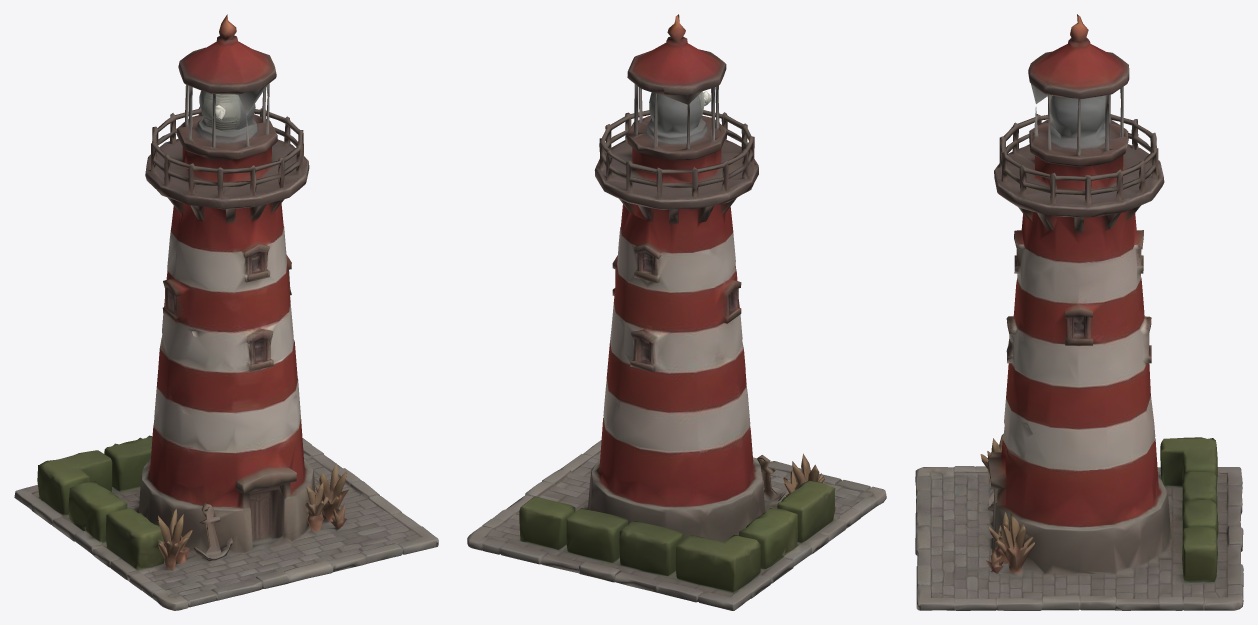
Rendered from lagos_lighthouse.glb.
The picture shows the model from 3 angles, left to right: view 1: azimuth 30°, elevation 25°; view 2: azimuth 150°, elevation 25°; view 3: azimuth 270°, elevation 25°; orthographic projection. The views are drawn at different scales.
Parts seen in each view (by area): view 1: tripo_node_07e7f90f-a82c-4a2d-b264-7c3a24232467; view 2: tripo_node_07e7f90f-a82c-4a2d-b264-7c3a24232467; view 3: tripo_node_07e7f90f-a82c-4a2d-b264-7c3a24232467.
Boxes of the visible parts, box(x1,y1,x2,y2) form: tripo_node_07e7f90f-a82c-4a2d-b264-7c3a24232467: box(14, 14, 438, 610); tripo_node_07e7f90f-a82c-4a2d-b264-7c3a24232467: box(467, 14, 886, 610); tripo_node_07e7f90f-a82c-4a2d-b264-7c3a24232467: box(915, 14, 1243, 610).
Bounding box in the file's own units: 0.5607 × 1 × 0.5636.
Materials: 1 (1 with a texture image).
